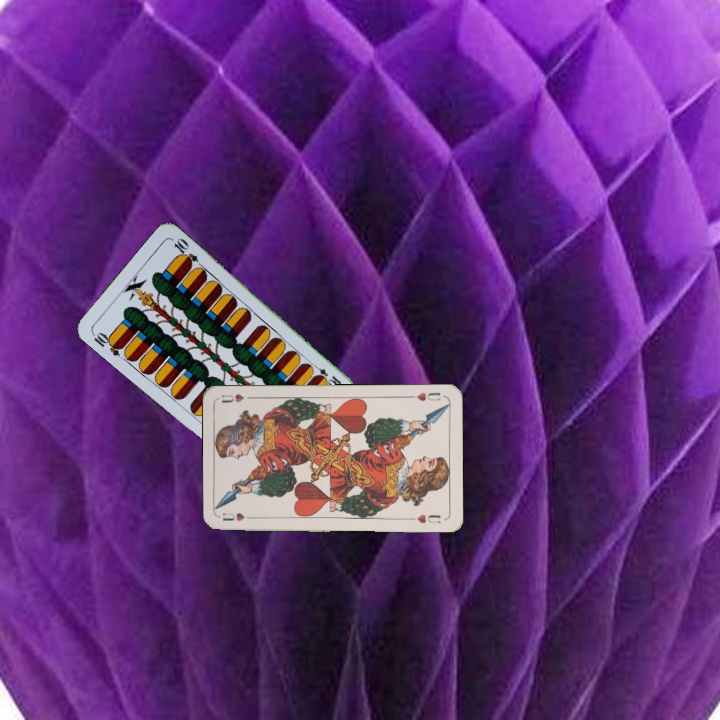E10: (88, 328, 126, 359), (307, 360, 344, 391)
HU: (406, 388, 443, 404), (219, 509, 258, 524)
